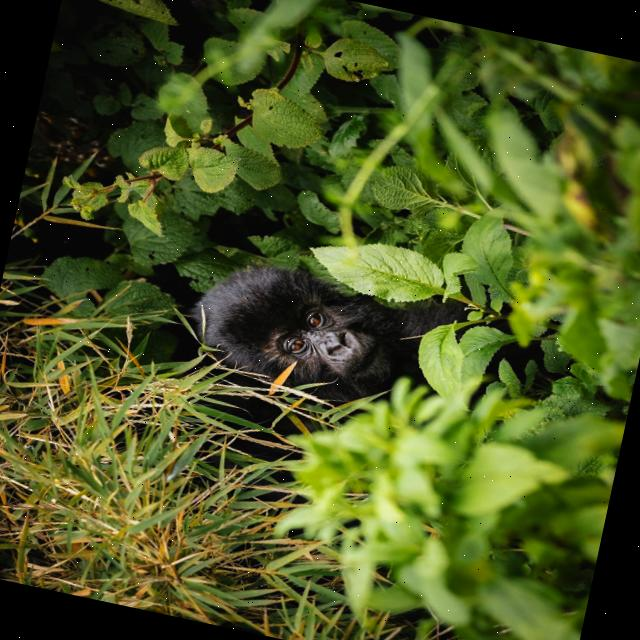Gorilla: (175, 218, 580, 449)
